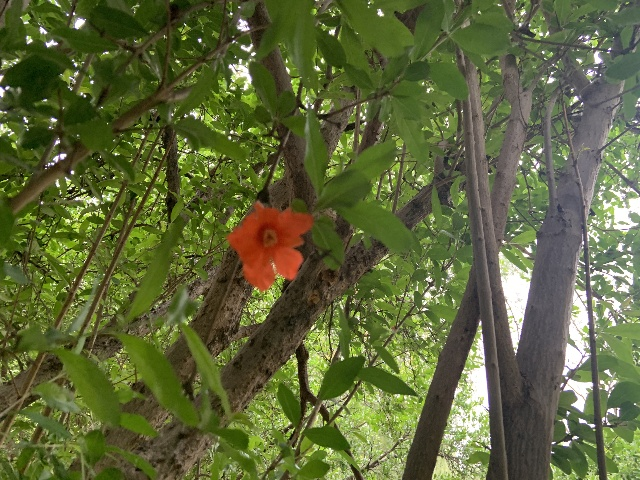flower: (226, 200, 312, 290)
